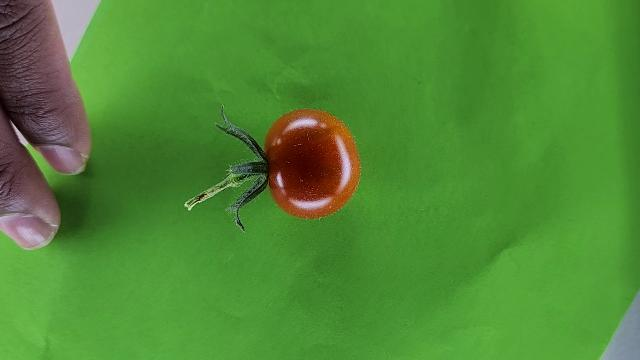Fully Grown: (262, 108, 363, 220)
